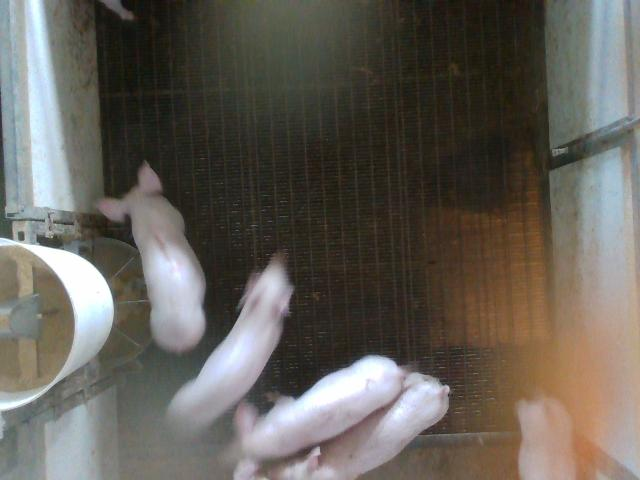pig-3: (98, 161, 205, 352)
